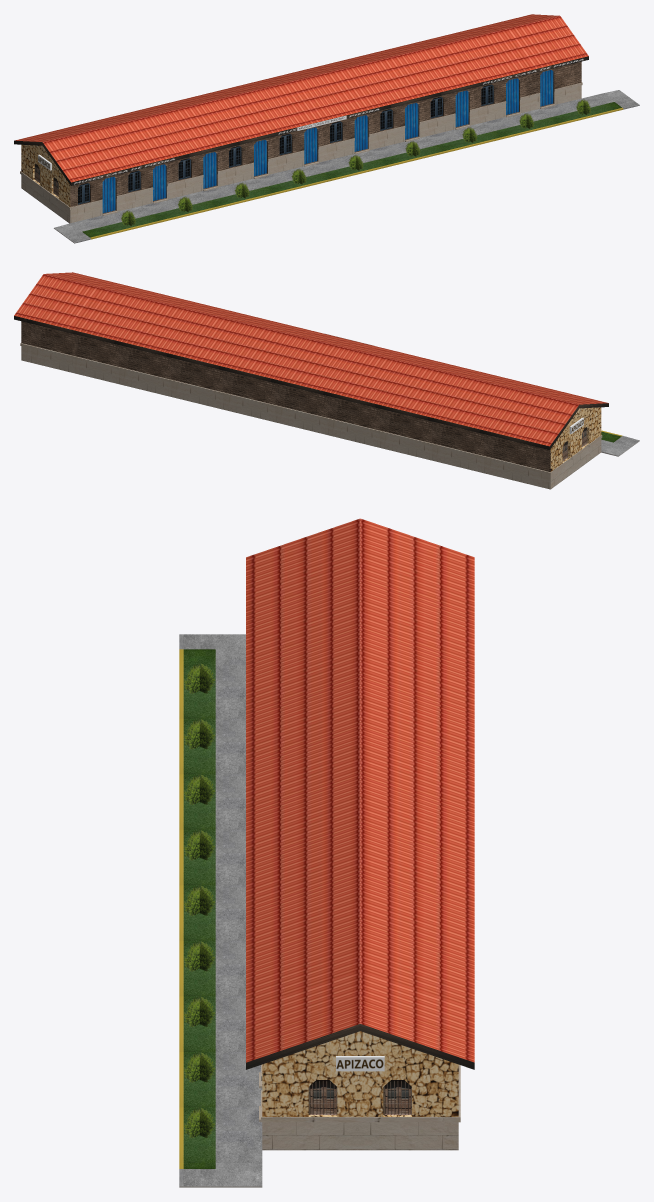
The model's file is Museo casa de piedra.glb.
3 views of the same model, one above another, from view 1: azimuth 30°, elevation 25°; view 2: azimuth 150°, elevation 25°; view 3: azimuth 270°, elevation 25° (orthographic). The views are drawn at different scales.
Visible parts, largest first — view 1: Cube.003; view 2: Cube.003; view 3: Cube.003.
Part boxes in pixels (x1,y1,x2,y2): Cube.003: [14, 14, 639, 243]; Cube.003: [14, 272, 639, 489]; Cube.003: [179, 518, 474, 1187].
Size of the model in its own units: 26.59 by 2.92 by 6.02.
1 material, 1 textured.
